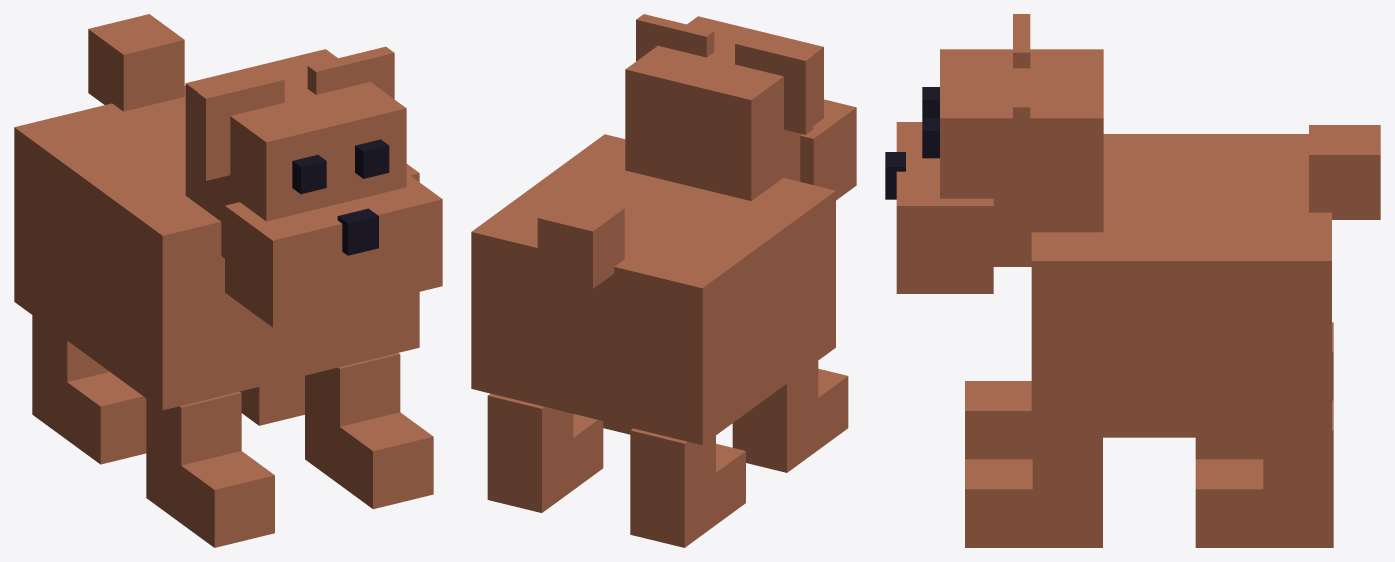
The model's file is animal5.fbx.
3 renders of one model, left to right at view 1: azimuth 30°, elevation 25°; view 2: azimuth 150°, elevation 25°; view 3: azimuth 270°, elevation 25°, orthographic. The views are drawn at different scales.
Visible parts, largest first — view 1: Dog2; view 2: Dog2; view 3: Dog2.
Part boxes in pixels (x1,y1,x2,y2): Dog2: (14,14,442,547); Dog2: (471,14,856,547); Dog2: (885,14,1380,547).
Bounding box in the file's own units: 1.57 × 2.49 × 2.58.
